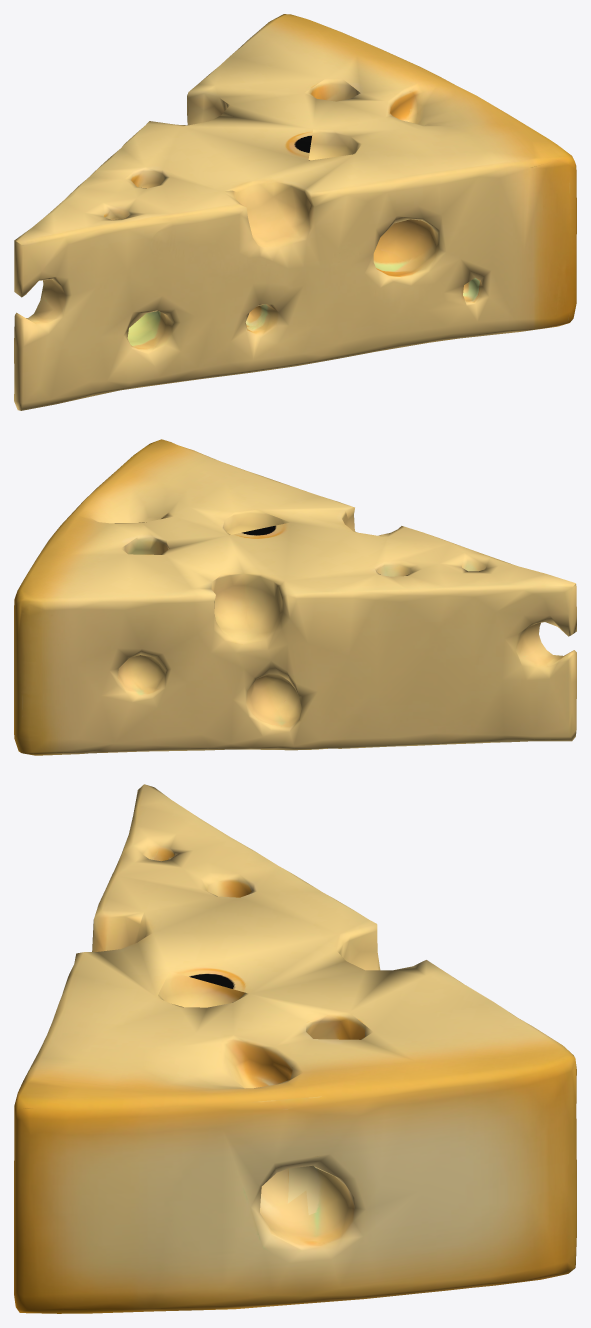
Rendered from swiss_cheese (1).glb.
3 views of the same model, one above another, from view 1: azimuth 30°, elevation 25°; view 2: azimuth 150°, elevation 25°; view 3: azimuth 270°, elevation 25° (orthographic). The views are drawn at different scales.
Parts seen in each view (by area): view 1: Mesh10; view 2: Mesh10; view 3: Mesh10.
Part boxes in pixels (x1,y1,x2,y2): Mesh10: (14, 14, 576, 410); Mesh10: (14, 439, 576, 755); Mesh10: (14, 784, 576, 1313).
Bounding box in the file's own units: 1.92 × 0.6098 × 1.42.
1 material, 1 textured.
